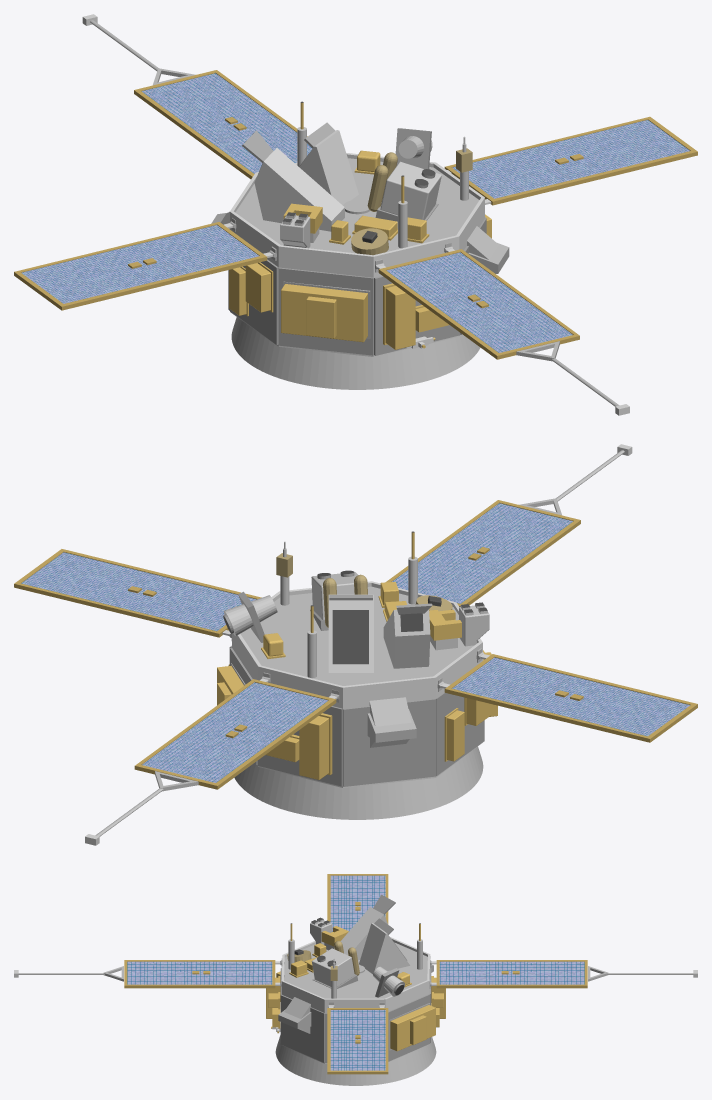
The model's file is Advanced Composition Explorer.glb.
3 views of the same model, one above another, from view 1: azimuth 30°, elevation 25°; view 2: azimuth 150°, elevation 25°; view 3: azimuth 270°, elevation 25° (orthographic). The views are drawn at different scales.
Visible parts, largest first — view 1: Layer_0; view 2: Layer_0; view 3: Layer_0.
Boxes of the visible parts, box(x1,y1,x2,y2) form: Layer_0: box(14, 14, 697, 415); Layer_0: box(14, 444, 697, 845); Layer_0: box(14, 874, 697, 1085).
Bounding box in the file's own units: 922 × 278 × 1345.
